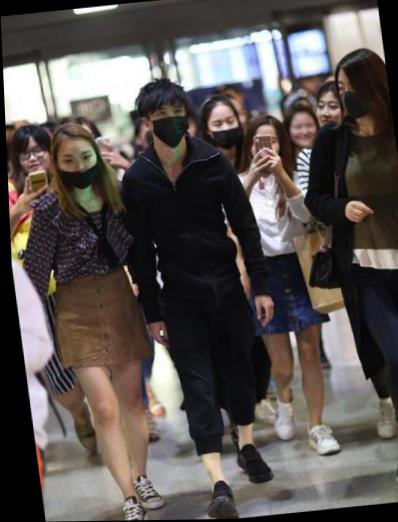NONE: (310, 97, 348, 134), (247, 134, 284, 169), (18, 143, 50, 174), (288, 119, 316, 149)
OK: (144, 101, 191, 148), (337, 75, 377, 120)
WRONG: (54, 147, 99, 191), (205, 112, 243, 150)
